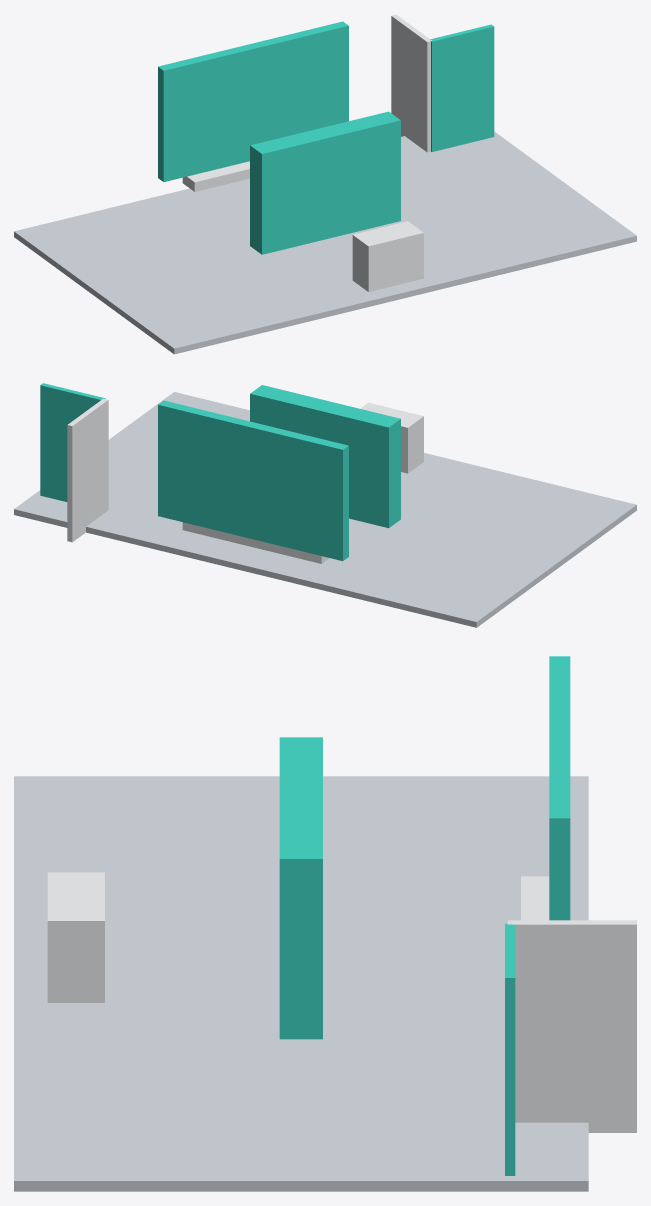
3 views of the same model, one above another, from view 1: azimuth 30°, elevation 25°; view 2: azimuth 150°, elevation 25°; view 3: azimuth 270°, elevation 25° (orthographic). The views are drawn at different scales.
Visible parts, largest first — view 1: Exhibition Booth Concept; view 2: Exhibition Booth Concept; view 3: Exhibition Booth Concept.
Boxes of the visible parts, left/top/right/bottom form: Exhibition Booth Concept: left=14, top=14, right=636, bottom=354; Exhibition Booth Concept: left=14, top=383, right=636, bottom=627; Exhibition Booth Concept: left=14, top=656, right=636, bottom=1191.
Size of the model in its own units: 10 by 2.9 by 6.51.
